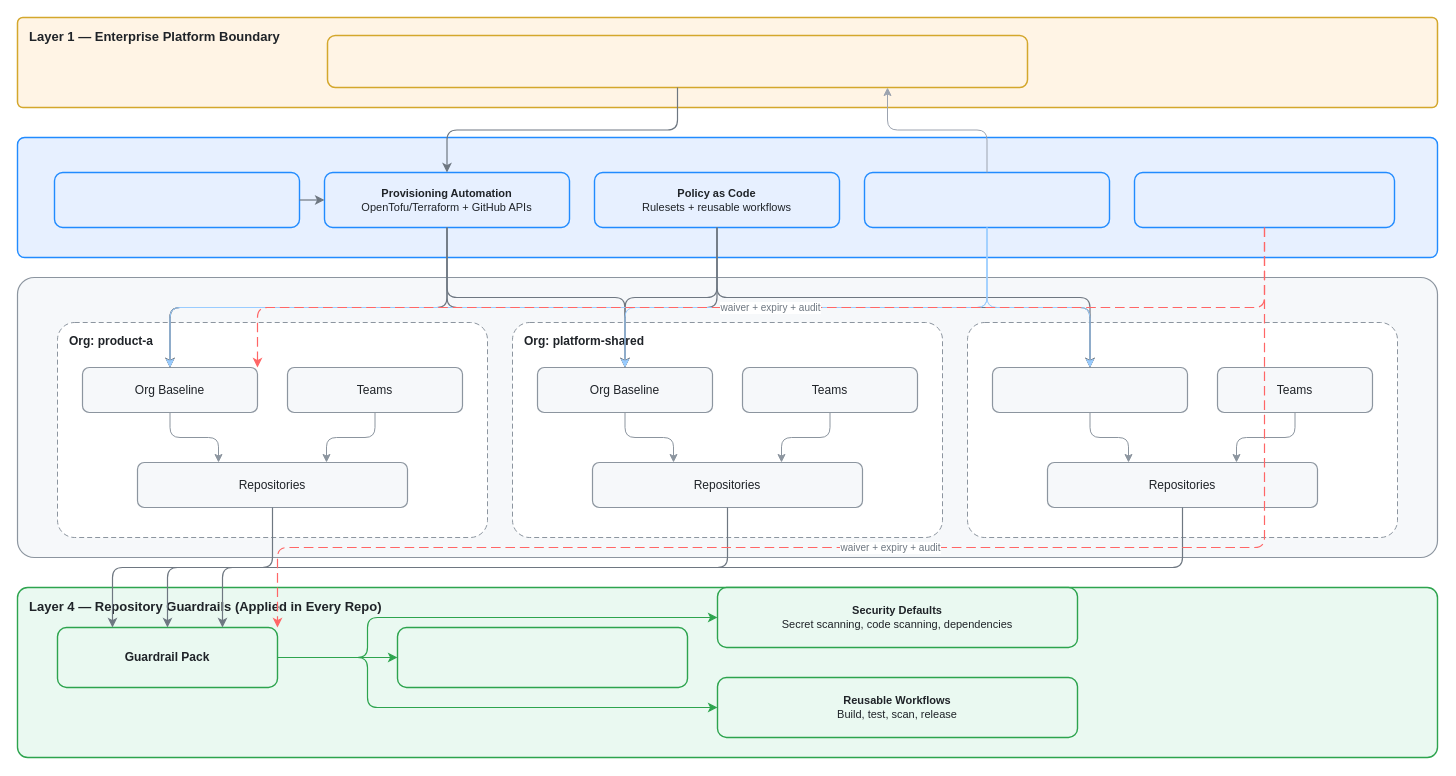
Image size: 1456x776. Some labels were removed from this diagram. The box of each missing label's shape, as (x1, y1, x2, y2) in pixels:
Exception Registry Time-bound waivers + approvals: (1133, 171, 1395, 228)
GitHub Enterprise Identity, audit, and governance controls: (326, 34, 1028, 88)
Layer 2 — Cockpit Organization (Control Plane): (16, 136, 1438, 258)
Layer 3 — Team / Product Organizations (Security + Cost Boundaries): (16, 276, 1438, 558)
Observability Drift and posture dashboards: (863, 171, 1110, 228)
Org Baseline (Relaxed): (991, 366, 1188, 413)
Org: sandbox: (966, 322, 1398, 538)
Rulesets Branch protection + required checks: (396, 626, 688, 688)
Service Catalog Org/repo request templates: (53, 171, 300, 228)
